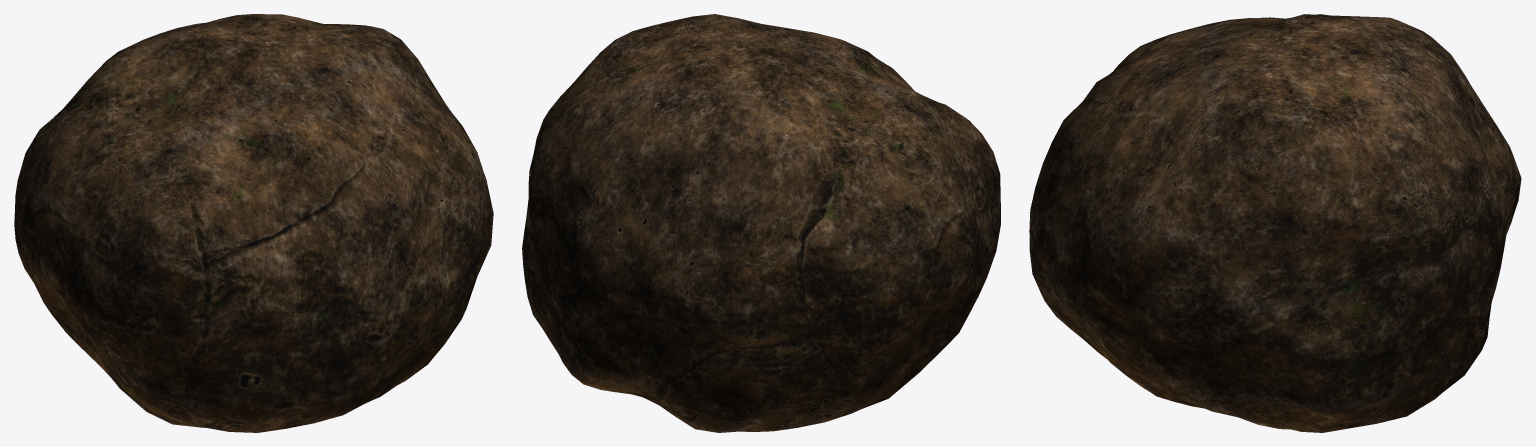
Rendered from SM_TI_Rock_8.fbx.
3 views of the same model, side by side, from view 1: azimuth 30°, elevation 25°; view 2: azimuth 150°, elevation 25°; view 3: azimuth 270°, elevation 25° (orthographic). The views are drawn at different scales.
Visible parts, largest first — view 1: SM_TI_Rock_8; view 2: SM_TI_Rock_8; view 3: SM_TI_Rock_8.
Boxes of the visible parts, bbox=[...] form: SM_TI_Rock_8: bbox=[14, 14, 493, 432]; SM_TI_Rock_8: bbox=[522, 14, 1000, 432]; SM_TI_Rock_8: bbox=[1029, 14, 1521, 432].
Bounding box in the file's own units: 30.71 × 30.2 × 25.43.
